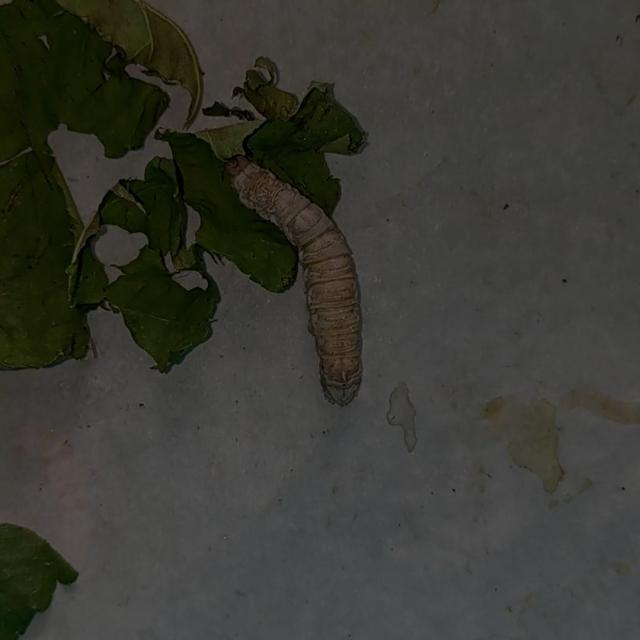Grasserie: (222, 138, 398, 414)
